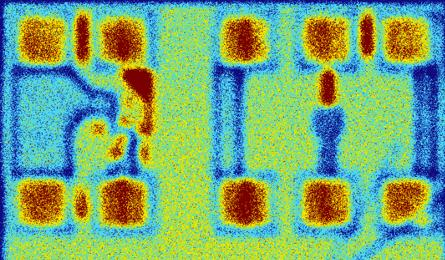Pad 3: (220, 177, 270, 228), (99, 178, 149, 229), (219, 15, 269, 64), (301, 14, 351, 62), (18, 16, 66, 65), (382, 15, 431, 63), (302, 178, 351, 226), (18, 177, 66, 226), (98, 16, 146, 64), (383, 179, 431, 227)
